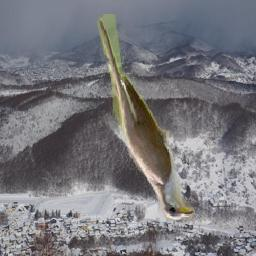Cuckoo: (96, 14, 195, 220)
